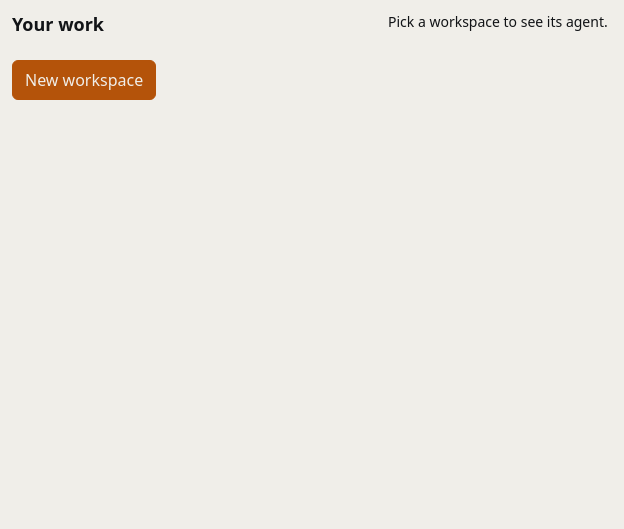
Test case: Home › shows the daemon's error when creating fails
Click the button "New workspace" at (84, 80), box [12,60,156,100]
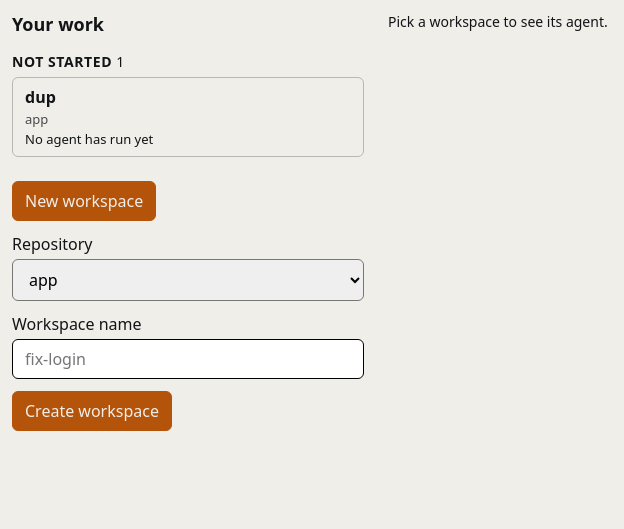
Type "dup" into the field labelled "Workspace name" at (188, 359), box [12,339,364,379]
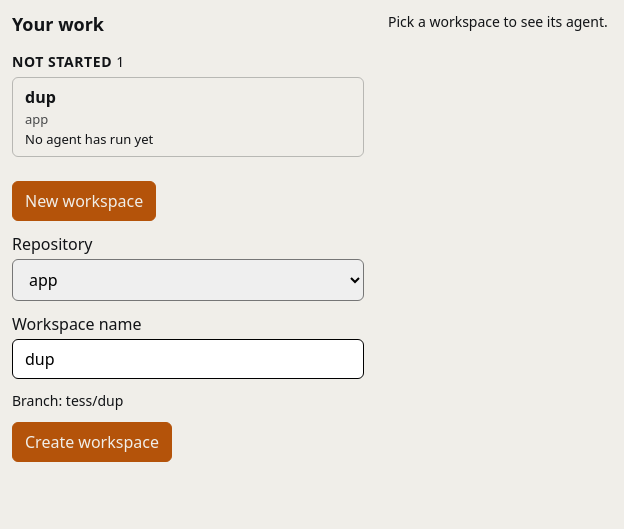
Click the button "Create workspace" at (92, 442), box [12,422,172,462]
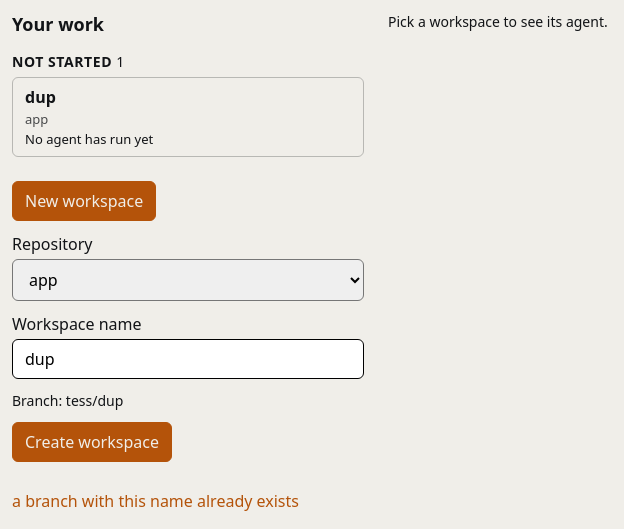
Result: the message reads "a branch with this name already exists" at [12,490,299,512]
